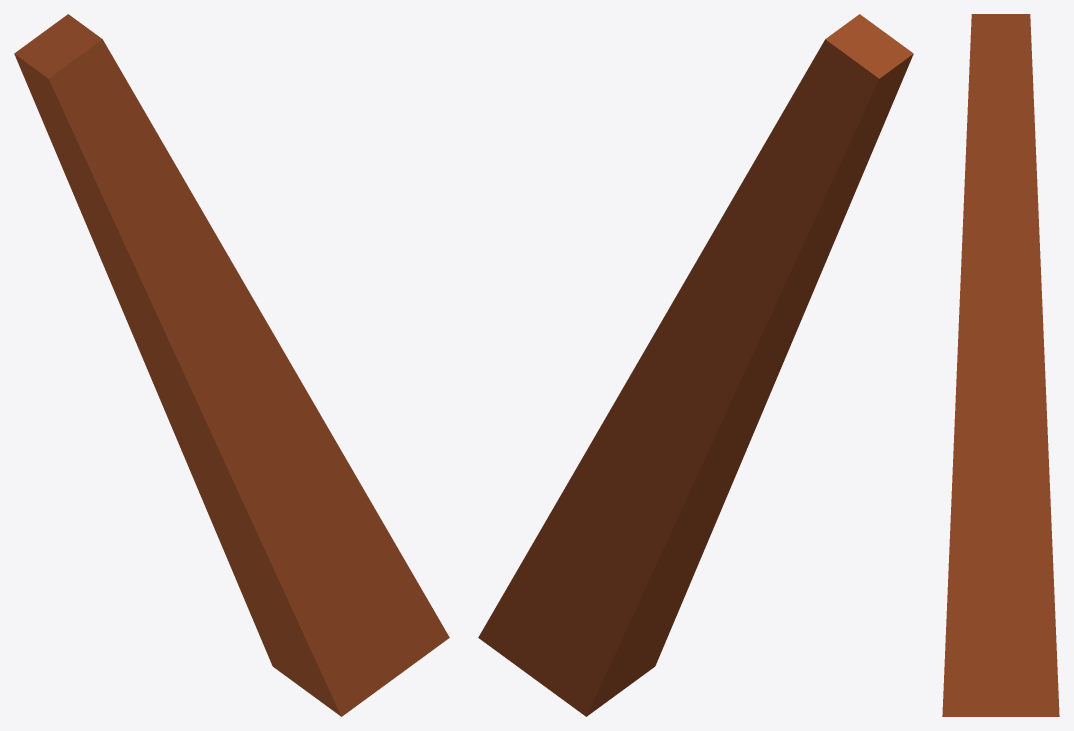
The model's file is torch1.glb.
3 renders of one model, left to right at view 1: azimuth 30°, elevation 25°; view 2: azimuth 150°, elevation 25°; view 3: azimuth 270°, elevation 25°, orthographic. The views are drawn at different scales.
Visible parts, largest first — view 1: Cube; view 2: Cube; view 3: Cube.
Boxes of the visible parts, left/top/right/bottom form: Cube: left=14, top=14, right=449, bottom=716; Cube: left=478, top=14, right=913, bottom=716; Cube: left=942, top=14, right=1059, bottom=716.
Size of the model in its own units: 0.3215 by 0.5755 by 0.1.
